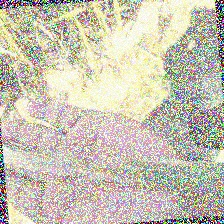Leaf_Blast: (12, 151, 162, 174)
